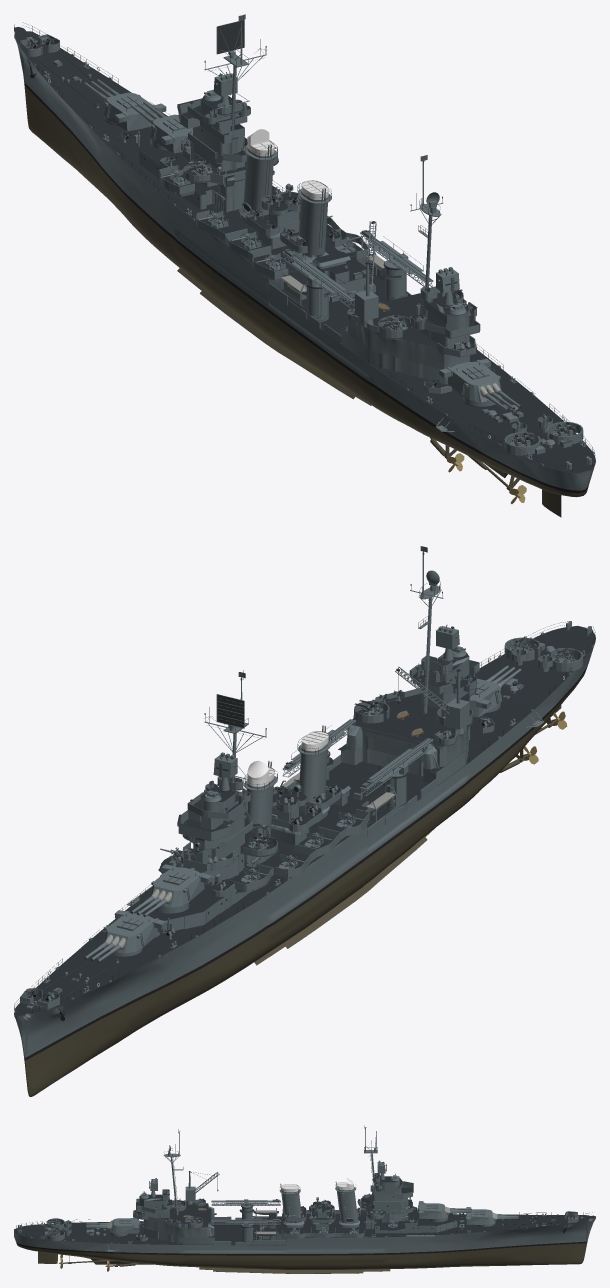
The model's file is new-orleans.glb.
The picture shows the model from 3 angles, top to bottom: view 1: azimuth 30°, elevation 25°; view 2: azimuth 150°, elevation 25°; view 3: azimuth 270°, elevation 25°; orthographic projection. The views are drawn at different scales.
Parts seen in each view (by area): view 1: Blueprint lofted hull, bulwarks.mesh, after-superstructure-079.mesh, deck-gear.mesh, after-funnel.mesh, main-3.yaw.mesh, bilge-keels.mesh, forward-funnel.mesh, after-superstructure-078.mesh, main-1.yaw.mesh, catapult-port.mesh, aircraft-crane.mesh (+10 smaller); view 2: Blueprint lofted hull, bulwarks.mesh, after-superstructure-079.mesh, deck-gear.mesh, after-superstructure-078.mesh, after-funnel.mesh, main-2.yaw.mesh, main-1.yaw.mesh, bilge-keels.mesh, aircraft-crane.mesh, catapult-port.mesh, forward-funnel.mesh (+3 smaller); view 3: Blueprint lofted hull, bulwarks.mesh, after-superstructure-079.mesh, deck-gear.mesh, bilge-keels.mesh, forward-funnel.mesh, after-superstructure-078.mesh, after-funnel.mesh, catapult-starboard.mesh, catapult-port.mesh, main-2.yaw.mesh, main-3.yaw.mesh (+9 smaller).
Boxes of the visible parts, x1,y1,x2,y2 form: Blueprint lofted hull: [14, 27, 595, 497]; bulwarks.mesh: [20, 34, 583, 455]; after-superstructure-079.mesh: [345, 295, 470, 369]; deck-gear.mesh: [22, 36, 594, 470]; after-funnel.mesh: [298, 181, 328, 255]; main-3.yaw.mesh: [439, 358, 501, 402]; bilge-keels.mesh: [177, 268, 371, 405]; forward-funnel.mesh: [243, 141, 274, 211]; after-superstructure-078.mesh: [341, 327, 448, 384]; main-1.yaw.mesh: [103, 92, 166, 131]; catapult-port.mesh: [282, 249, 354, 308]; aircraft-crane.mesh: [354, 221, 378, 327]; Blueprint lofted hull: [14, 625, 595, 1096]; bulwarks.mesh: [20, 637, 583, 1010]; after-superstructure-079.mesh: [346, 693, 470, 769]; deck-gear.mesh: [23, 621, 594, 1020]; after-superstructure-078.mesh: [341, 725, 470, 784]; after-funnel.mesh: [299, 732, 328, 803]; main-2.yaw.mesh: [150, 864, 212, 907]; main-1.yaw.mesh: [104, 910, 166, 953]; bilge-keels.mesh: [254, 828, 434, 965]; aircraft-crane.mesh: [395, 666, 469, 734]; catapult-port.mesh: [360, 738, 433, 796]; forward-funnel.mesh: [247, 768, 274, 836]; Blueprint lofted hull: [14, 1213, 595, 1269]; bulwarks.mesh: [46, 1173, 578, 1245]; after-superstructure-079.mesh: [143, 1203, 214, 1237]; deck-gear.mesh: [18, 1174, 583, 1244]; bilge-keels.mesh: [199, 1267, 390, 1273]; forward-funnel.mesh: [337, 1182, 358, 1222]; after-superstructure-078.mesh: [143, 1215, 214, 1244]; after-funnel.mesh: [281, 1184, 301, 1221]; catapult-starboard.mesh: [211, 1218, 280, 1227]; catapult-port.mesh: [211, 1199, 280, 1208]; main-2.yaw.mesh: [418, 1201, 448, 1218]; main-3.yaw.mesh: [109, 1217, 139, 1233].
Size of the model in its own units: 19.85 by 47.51 by 180.
16 materials, 13 textured.
